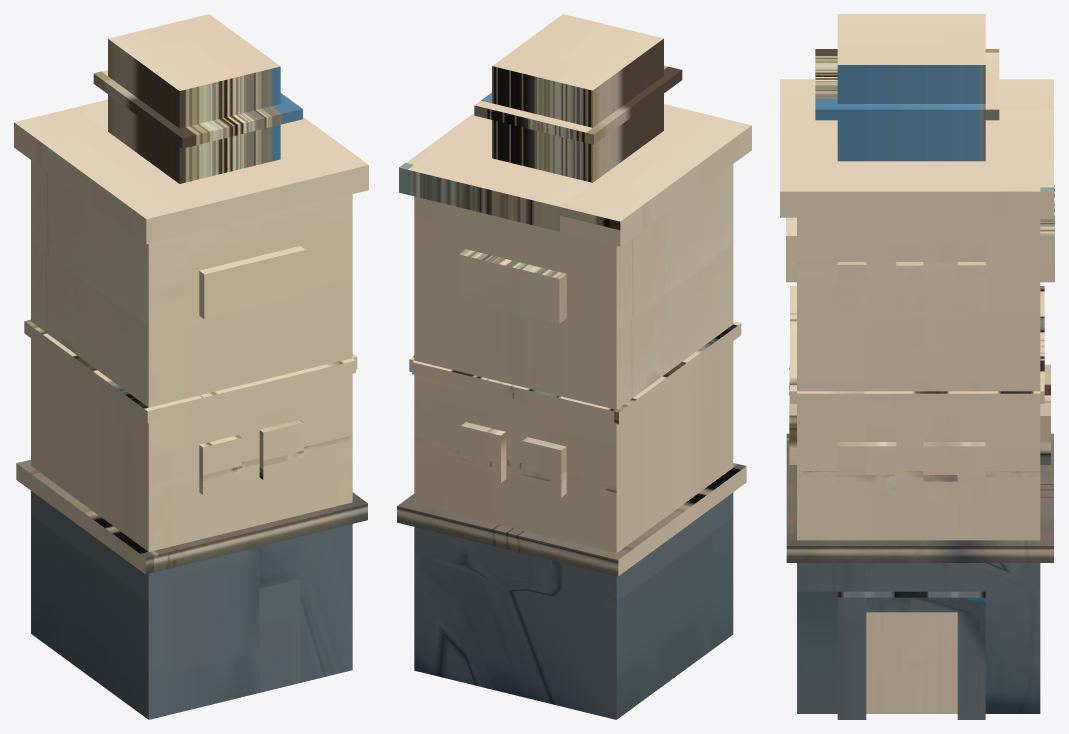
The model's file is Building2.fbx.
3 views of the same model, side by side, from view 1: azimuth 30°, elevation 25°; view 2: azimuth 150°, elevation 25°; view 3: azimuth 270°, elevation 25° (orthographic). The views are drawn at different scales.
Parts seen in each view (by area): view 1: Cube; view 2: Cube; view 3: Cube.
Boxes of the visible parts, x1,y1,x2,y2 form: Cube: (14,14,368,719); Cube: (397,14,751,719); Cube: (780,14,1054,719).
Size of the model in its own units: 226 by 222 by 565.
